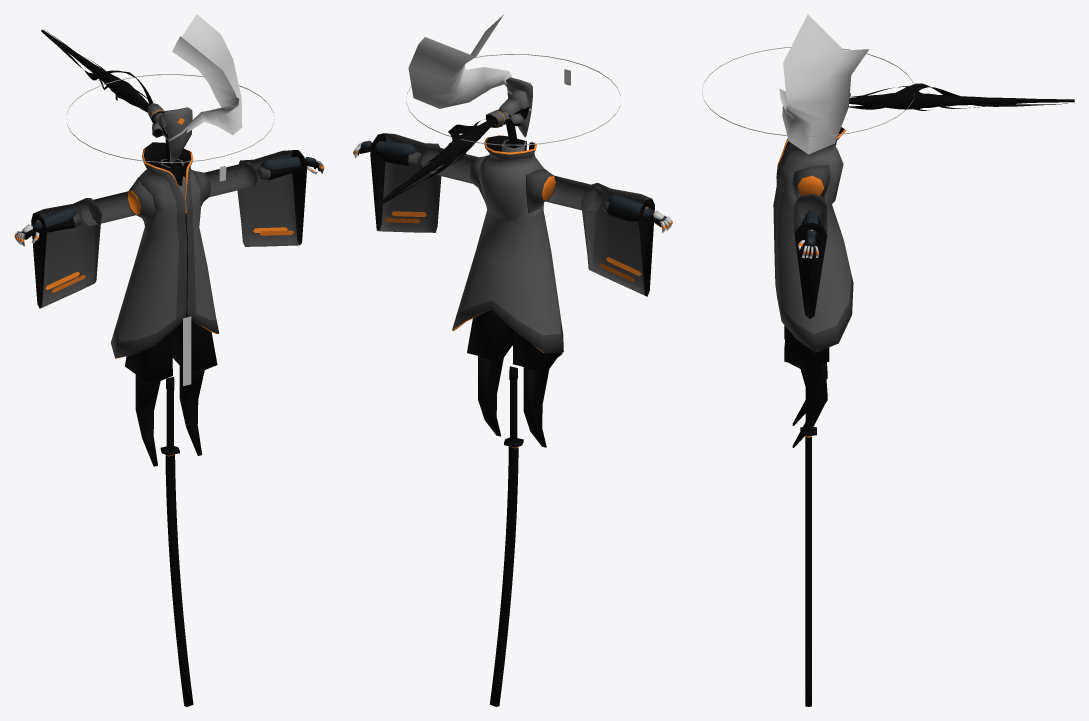
Rendered from GEKKOU_lowpoly.obj.
3 renders of one model, left to right at view 1: azimuth 30°, elevation 25°; view 2: azimuth 150°, elevation 25°; view 3: azimuth 270°, elevation 25°, orthographic. The views are drawn at different scales.
Visible parts, largest first — view 1: Circle, legs_neck, Circle.007_Circle.006, Circle.004_Circle.006, BezierCurve.001_BezierCurve, Cube.032_Cube.039, BezierCurve, Circle.002_Circle.005, Circle.006_Circle.008, Cube.002_Cube.003, Circle.005_Circle.007, Cube.031_Cube.038 (+2 smaller); view 2: Circle, legs_neck, Circle.007_Circle.006, Circle.004_Circle.006, BezierCurve.001_BezierCurve, Cube.032_Cube.039, BezierCurve, Circle.006_Circle.008, Circle.005_Circle.007, Circle.002_Circle.005, Cube.031_Cube.038, Info_circle (+2 smaller); view 3: Circle, BezierCurve.001_BezierCurve, BezierCurve, Circle.004_Circle.006, legs_neck, Cube.032_Cube.039, Circle.003_Circle.004.
Boxes of the visible parts, <box> form: Circle: <box>110,142,218,358</box>; legs_neck: <box>125,320,217,466</box>; Circle.007_Circle.006: <box>31,198,102,308</box>; Circle.004_Circle.006: <box>235,150,307,246</box>; BezierCurve.001_BezierCurve: <box>172,14,242,139</box>; Cube.032_Cube.039: <box>165,454,193,706</box>; BezierCurve: <box>41,29,153,112</box>; Circle.002_Circle.005: <box>205,162,258,197</box>; Circle.006_Circle.008: <box>80,190,138,226</box>; Cube.002_Cube.003: <box>163,107,192,163</box>; Circle.005_Circle.007: <box>127,177,155,224</box>; Cube.031_Cube.038: <box>160,376,179,455</box>; Circle: <box>452,135,563,353</box>; legs_neck: <box>467,309,562,447</box>; Circle.007_Circle.006: <box>581,182,654,296</box>; Circle.004_Circle.006: <box>370,133,442,232</box>; BezierCurve.001_BezierCurve: <box>408,14,512,108</box>; Cube.032_Cube.039: <box>490,446,518,706</box>; BezierCurve: <box>375,117,496,207</box>; Circle.006_Circle.008: <box>544,175,604,212</box>; Circle.005_Circle.007: <box>526,169,555,213</box>; Circle.002_Circle.005: <box>420,146,478,183</box>; Cube.031_Cube.038: <box>504,366,523,447</box>; Info_circle: <box>406,54,620,145</box>; Circle: <box>773,127,853,352</box>; BezierCurve.001_BezierCurve: <box>779,14,869,154</box>; BezierCurve: <box>849,83,1074,110</box>; Circle.004_Circle.006: <box>794,193,827,318</box>; legs_neck: <box>784,325,829,447</box>; Cube.032_Cube.039: <box>805,436,811,706</box>; Circle.003_Circle.004: <box>792,165,829,196</box>.
Size of the model in its own units: 1.64 by 3.47 by 1.71.
